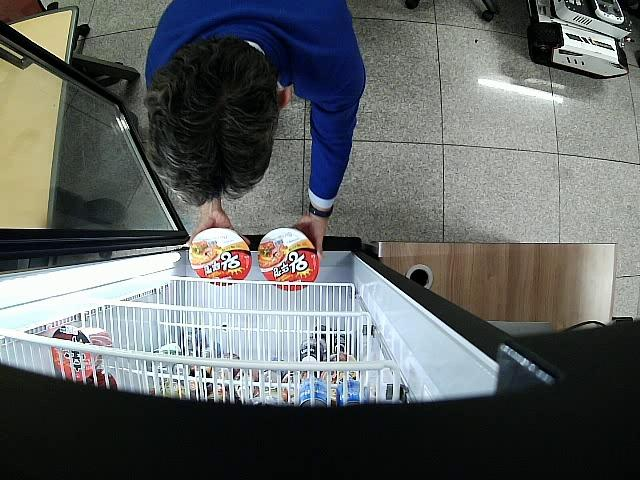00_hand: (188, 211, 250, 246), (291, 217, 325, 259)
10_wangTtukkeong: (258, 228, 320, 291), (189, 227, 252, 285)
